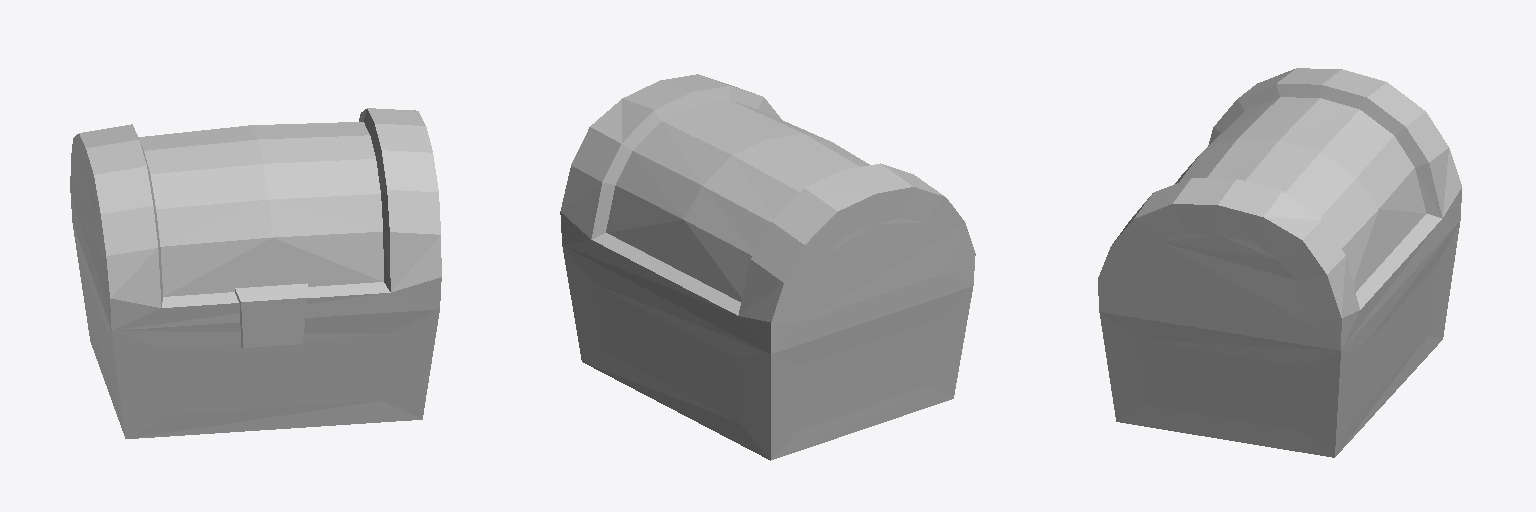
File: Chest.obj
The picture shows the model from 3 angles: view 1: azimuth 30°, elevation 25°; view 2: azimuth 150°, elevation 25°; view 3: azimuth 270°, elevation 25°; orthographic projection.
Visible parts, largest first — view 1: chest; view 2: chest; view 3: chest.
Boxes of the visible parts, x1=… form: chest: x1=70, y1=108, x2=441, y2=438; chest: x1=560, y1=74, x2=975, y2=460; chest: x1=1098, y1=68, x2=1461, y2=457.
Size of the model in its own units: 3.75 by 2.52 by 3.35.